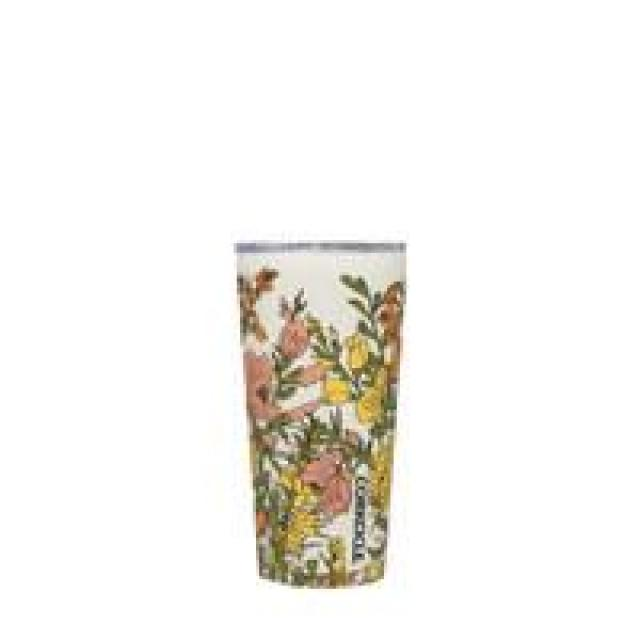bottle: (230, 240, 407, 589)
